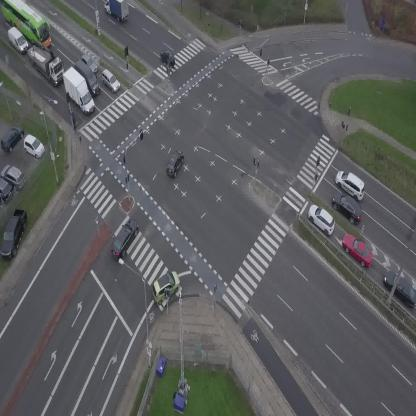bicycle: (72, 114, 79, 132)
car: (105, 215, 143, 263), (337, 228, 379, 271), (145, 267, 187, 307), (327, 187, 368, 227), (330, 166, 371, 202), (303, 201, 341, 238), (162, 148, 188, 179), (97, 67, 124, 94), (157, 46, 179, 69), (79, 51, 101, 74)
lorry: (17, 34, 73, 88), (58, 63, 97, 118), (72, 57, 104, 98), (3, 25, 33, 55), (104, 0, 129, 22)
